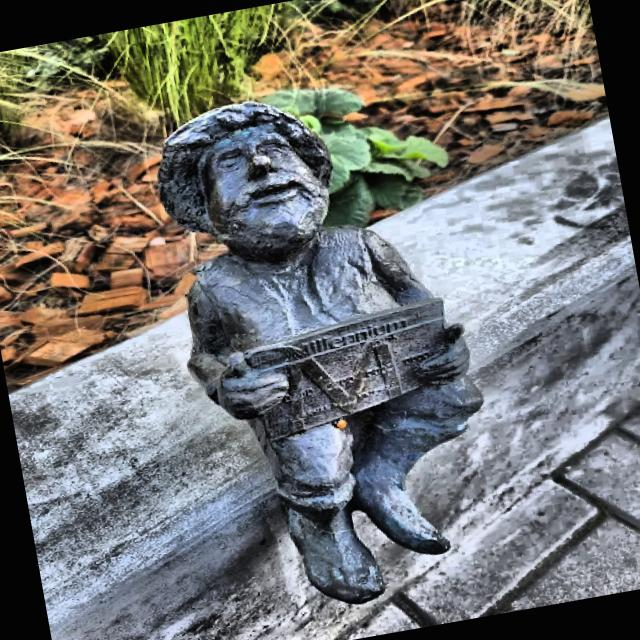Krasnal_Millenniowski: (157, 103, 482, 605)
